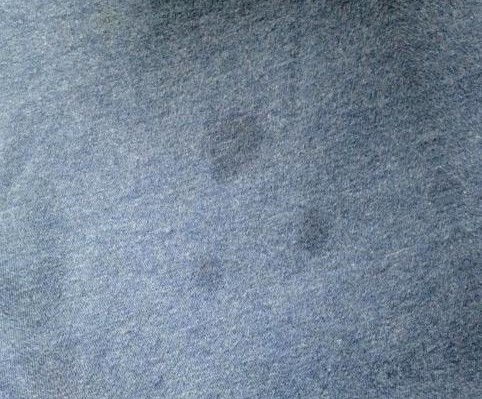stain: (196, 106, 272, 187), (283, 207, 345, 266), (187, 256, 229, 300)
